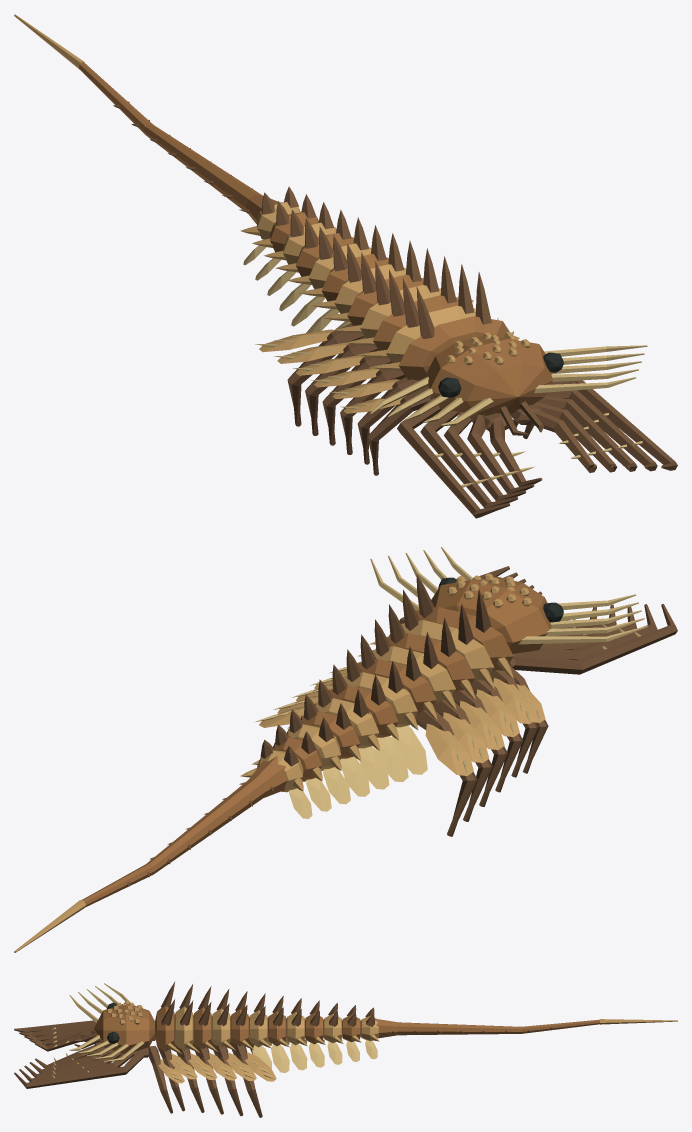
File: habelia.glb
3 renders of one model, top to bottom at view 1: azimuth 30°, elevation 25°; view 2: azimuth 150°, elevation 25°; view 3: azimuth 270°, elevation 25°, orthographic. The views are drawn at different scales.
Parts seen in each view (by area): view 1: habelia-labeled-solids; view 2: habelia-labeled-solids; view 3: habelia-labeled-solids.
Part boxes in pixels (bbox=[...]): habelia-labeled-solids: bbox=[14, 14, 677, 518]; habelia-labeled-solids: bbox=[14, 547, 677, 952]; habelia-labeled-solids: bbox=[14, 981, 677, 1117].
Bounding box in the file's own units: 0.0108 × 0.00681 × 0.0387.
